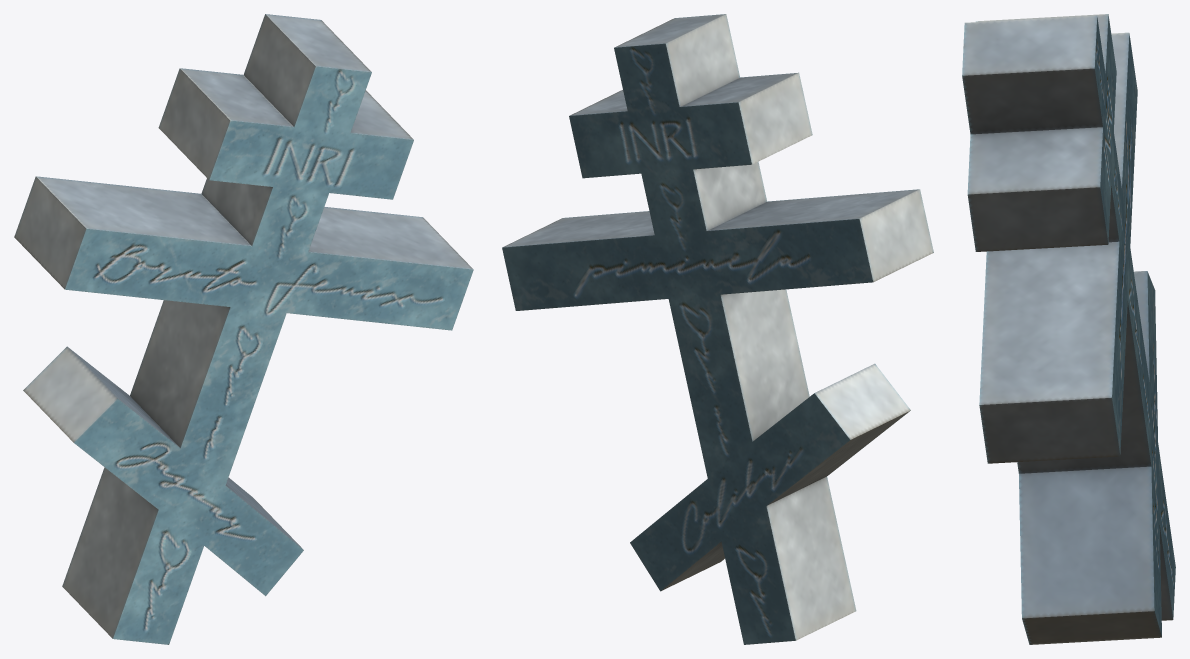
3 views of the same model, side by side, from view 1: azimuth 30°, elevation 25°; view 2: azimuth 150°, elevation 25°; view 3: azimuth 270°, elevation 25° (orthographic). The views are drawn at different scales.
Visible parts, largest first — view 1: Cruz_Orto_Cube.011; view 2: Cruz_Orto_Cube.011; view 3: Cruz_Orto_Cube.011.
Boxes of the visible parts, x1,y1,x2,y2 form: Cruz_Orto_Cube.011: [14, 14, 473, 644]; Cruz_Orto_Cube.011: [502, 14, 933, 644]; Cruz_Orto_Cube.011: [962, 14, 1175, 644].
Size of the model in its own units: 1.95 by 2.69 by 0.7673.
